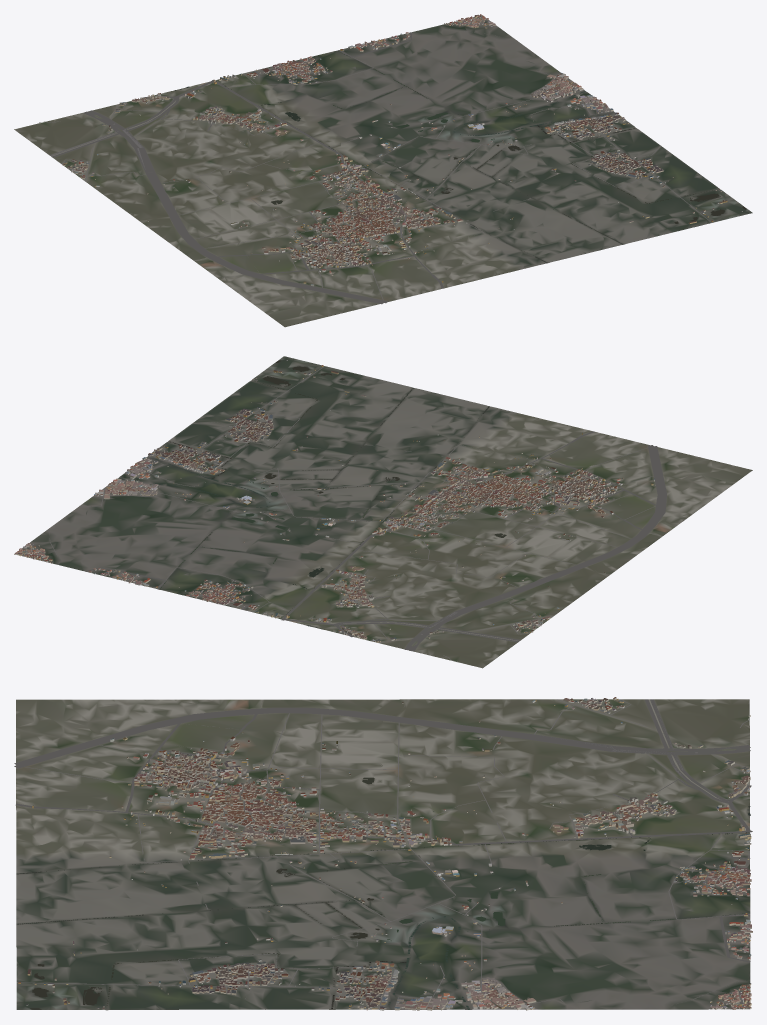
3 views of the same model, one above another, from view 1: azimuth 30°, elevation 25°; view 2: azimuth 150°, elevation 25°; view 3: azimuth 270°, elevation 25° (orthographic). The views are drawn at different scales.
Visible parts, largest first — view 1: ground, buildings, roads, water; view 2: ground, buildings, roads, water; view 3: ground, buildings, roads, water.
Boxes of the visible parts, x1,y1,x2,y2 form: ground: [14, 15, 752, 327]; buildings: [39, 14, 742, 286]; roads: [47, 17, 711, 304]; water: [175, 51, 746, 263]; ground: [14, 356, 752, 668]; buildings: [14, 360, 655, 661]; roads: [22, 366, 684, 660]; water: [118, 360, 506, 629]; ground: [16, 699, 750, 1010]; buildings: [18, 697, 752, 1010]; roads: [14, 699, 752, 1009]; water: [16, 777, 750, 1009].
Size of the model in its own units: 2817 by 21.54 by 2823.
